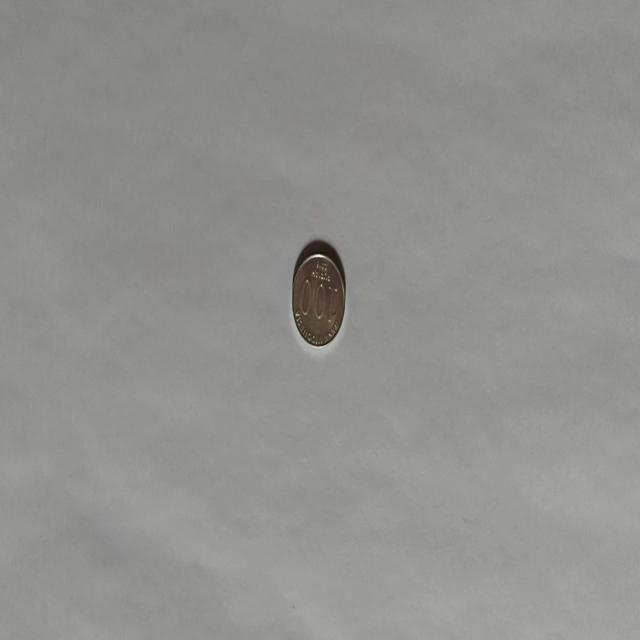seratus rupiah: (290, 250, 346, 348)
